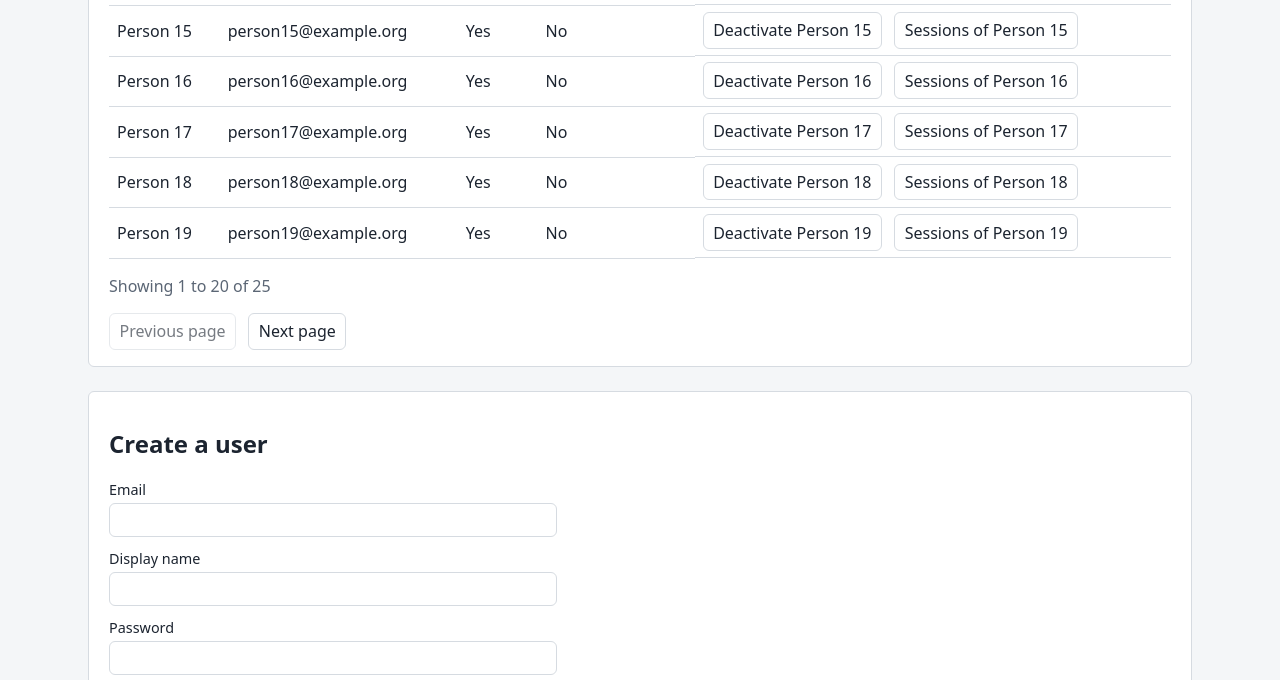
Test: users page › lists, searches, filters and pages users
(page scrolled)
Expected: the text "Showing 1 to 20 of 25" is shown, x1=109 y1=275 x2=271 y2=297
Click the button "Next page". click: (297, 331)
box: x1=248 y1=313 x2=346 y2=350
(page scrolled)
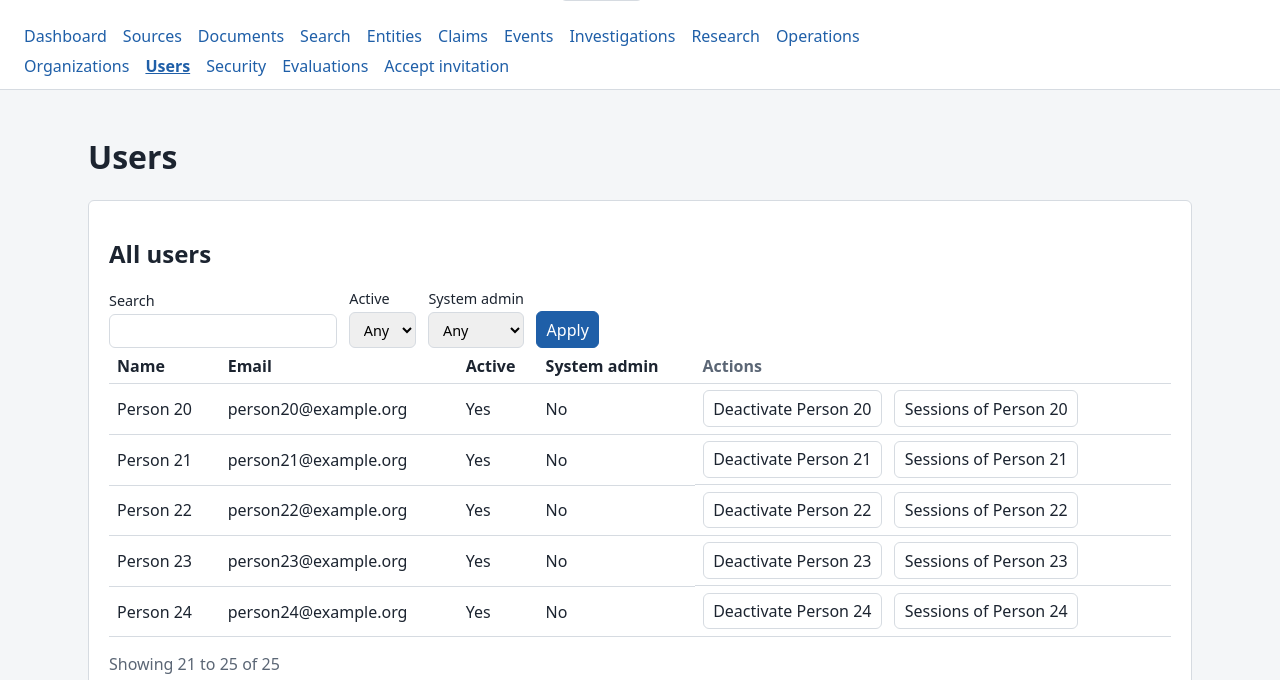
Expected: the text "Showing 21 to 25 of 25" is shown, x1=109 y1=653 x2=280 y2=675
Type "person3@" into the field labelled "Search". click: (223, 331)
box: x1=109 y1=314 x2=337 y2=348
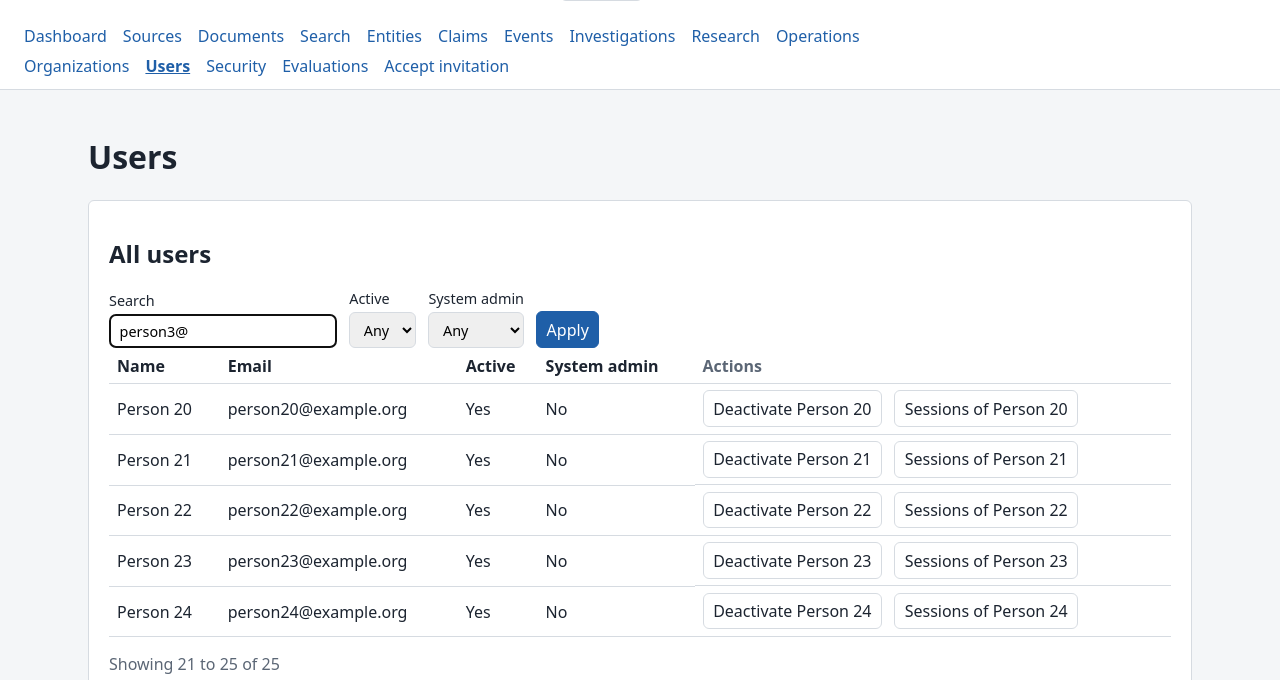
Select "No" in the dropdown labelled "Active". click: (383, 330)
box: x1=349 y1=312 x2=416 y2=348
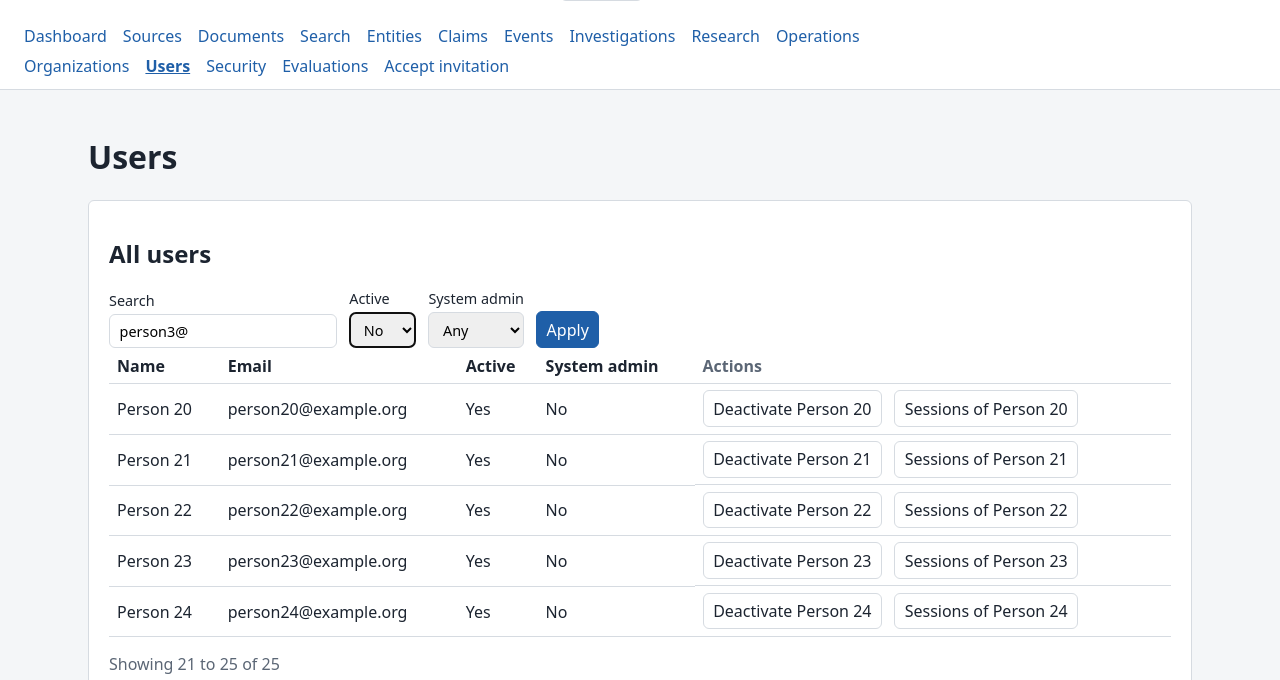
Click the button "Apply". click: (568, 330)
box: x1=536 y1=312 x2=599 y2=348
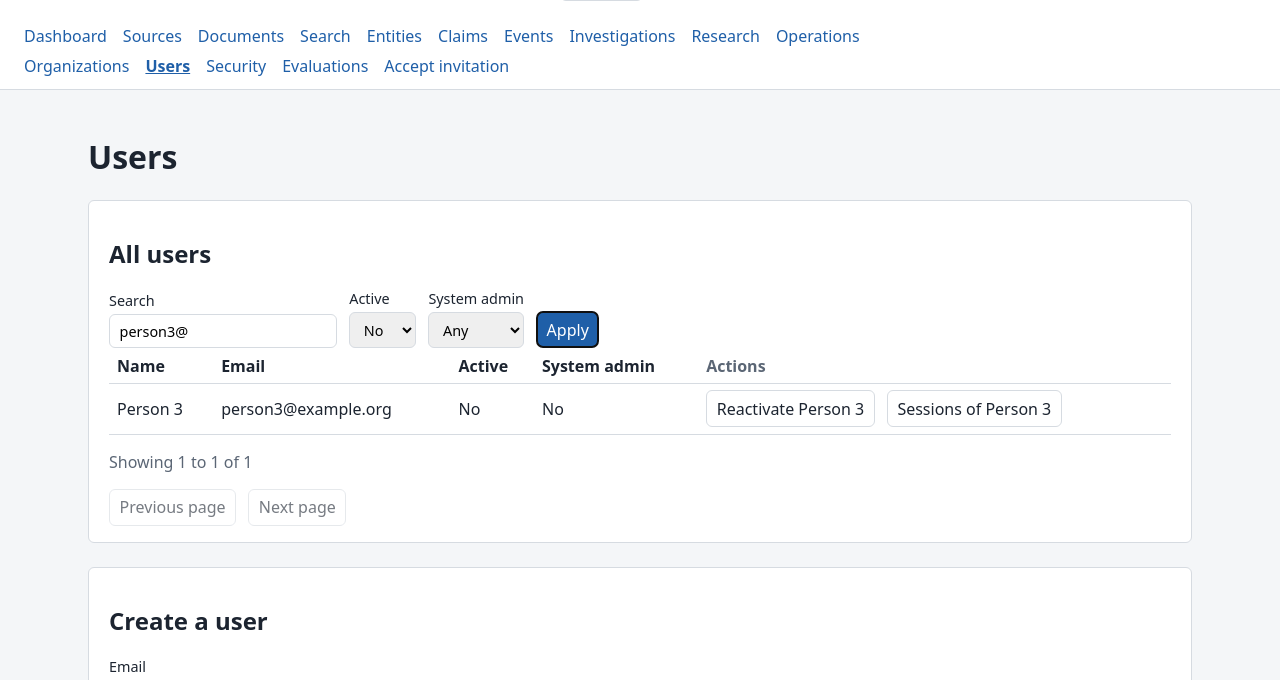
Expected: the text "Showing 1 to 1 of 1" is shown, x1=109 y1=451 x2=252 y2=473
